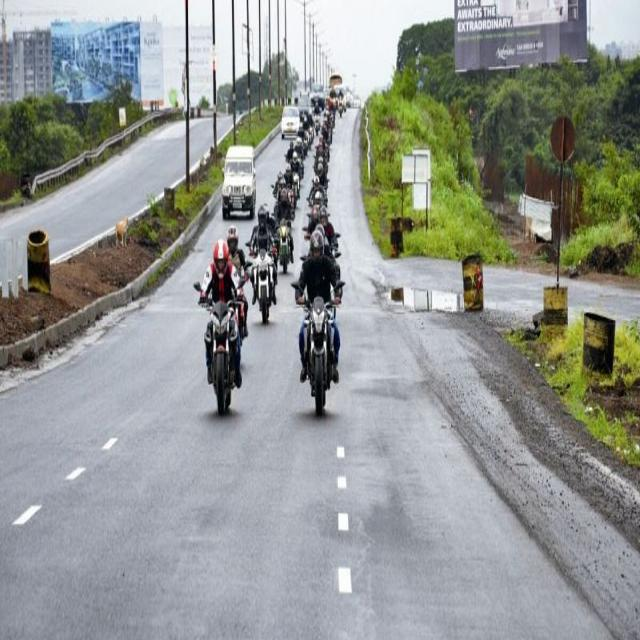Vehicles: (298, 298, 342, 427), (203, 305, 246, 416), (244, 235, 285, 344), (224, 138, 255, 219), (274, 215, 292, 277), (277, 98, 300, 144), (313, 116, 321, 136), (337, 97, 345, 115)
